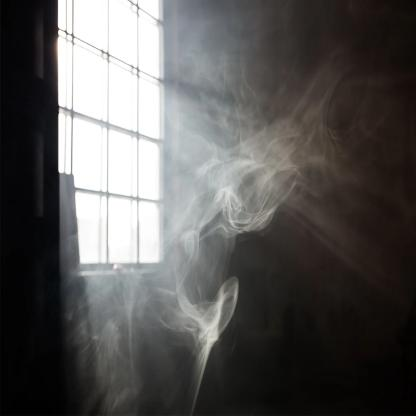smoke: (63, 0, 415, 414)
